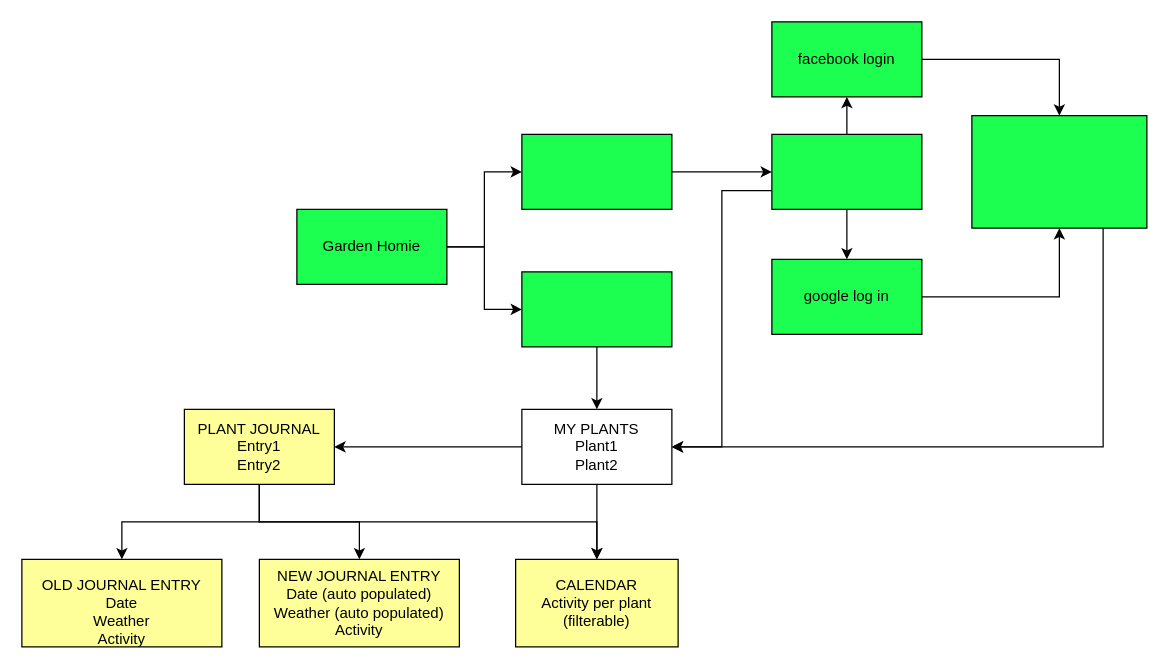
This 1169x670 diagram has some shape labels left out. Here are the shapes that lost their labels. From the top down, the centre of each, then its label:
point 596,171: sign up / log in
point 846,171: name / password google facebook
point 1059,171: user name avatar name address favorite plant(s)
point 596,309: (auto) login
